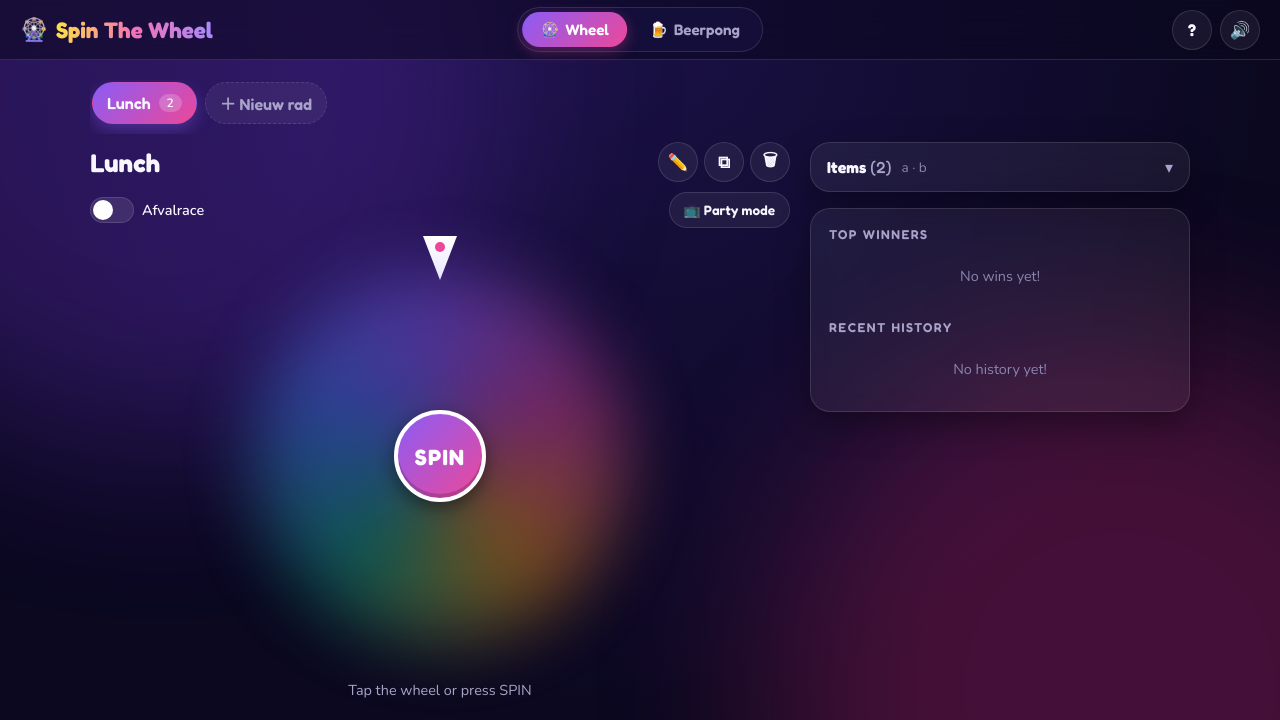
spin result is saved and Spin again starts another spin
Expected: the heading "Lunch" is shown, x1=90 y1=146 x2=160 y2=178
What coordinates should you click on to do the following:
click the button with aria-label "Spin the wheel"
I would click on:
 (440, 456)
Its box is x1=394 y1=410 x2=486 y2=502.
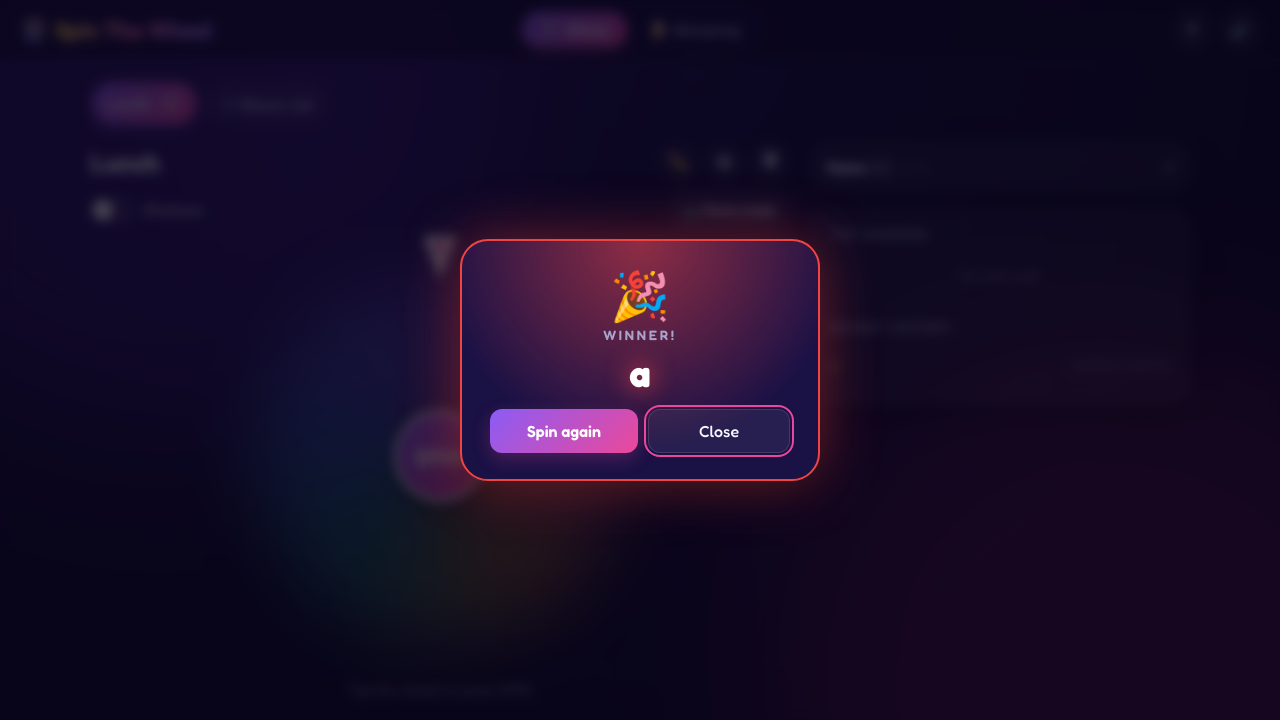
What coordinates should you click on to do the following:
click the button "Spin again"
I would click on:
 (564, 431)
Its box is x1=490 y1=409 x2=638 y2=453.
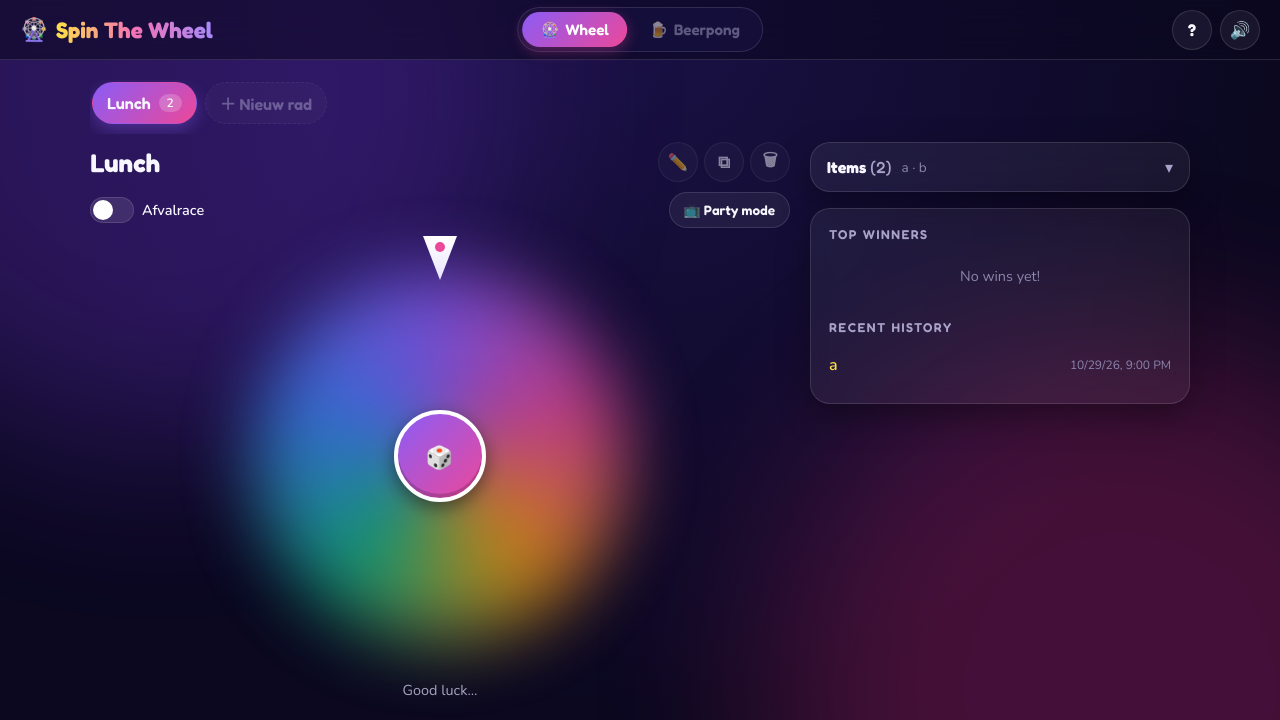
Result: the button named "Wheel is spinning" is shown at x1=394 y1=410 x2=486 y2=502
